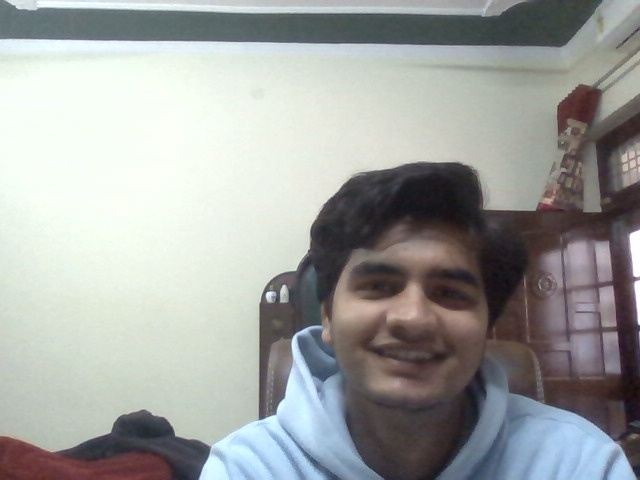joy: (348, 255, 479, 400)
